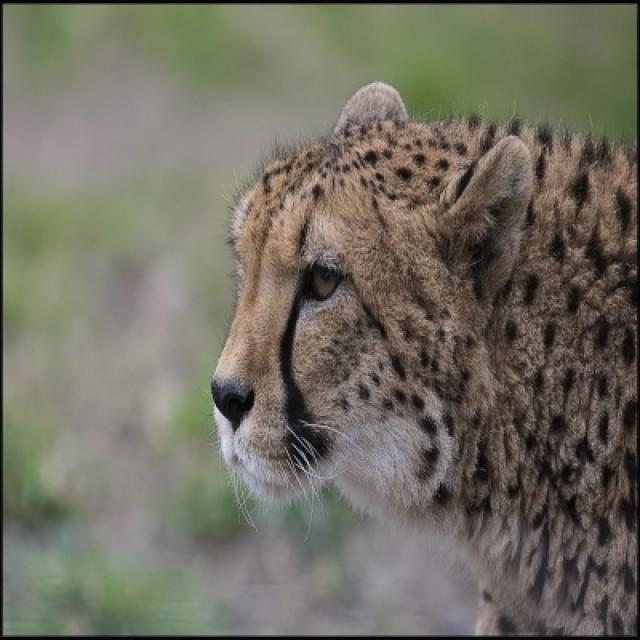Cheetah: (210, 83, 638, 637)
